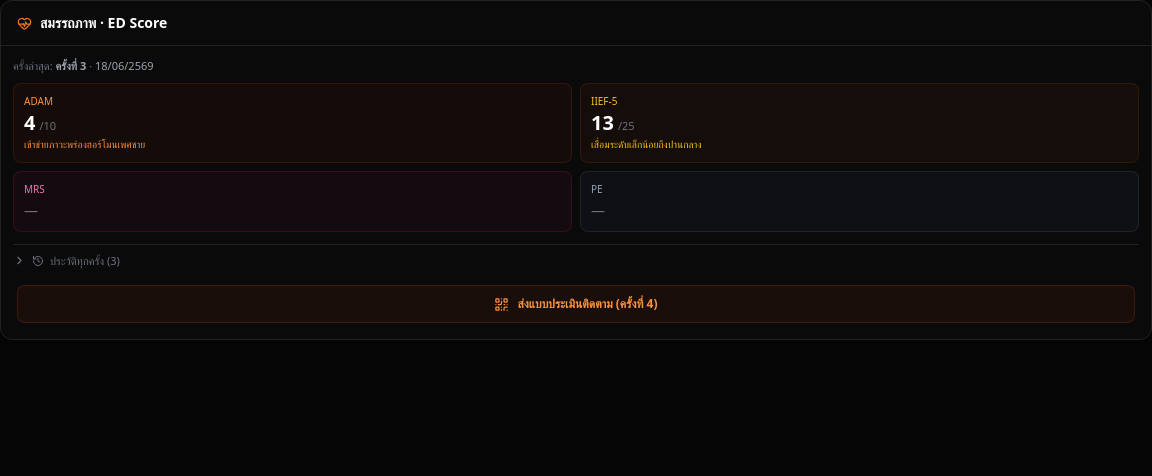
EDScoreBox round-select › R6 selecting then deleting that (past) round resets to default (handleDelete reset)
The width and height of the screenshot is (1152, 476).
Click the button with test id "ed-history-toggle" at (80, 260), box 13,244 -> 1139,269
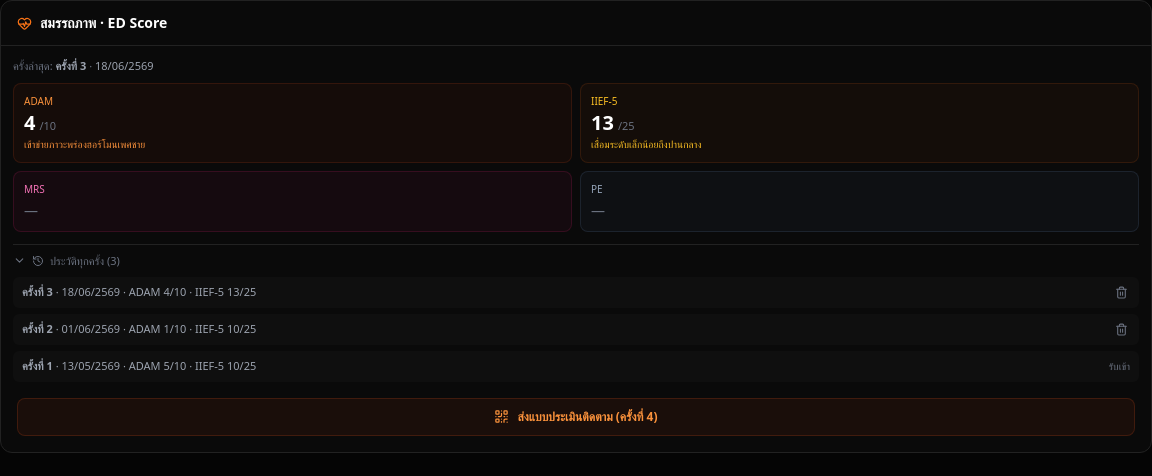
Click the button with test id "ed-history-A1" at (91, 329), box 13,314 -> 1139,345
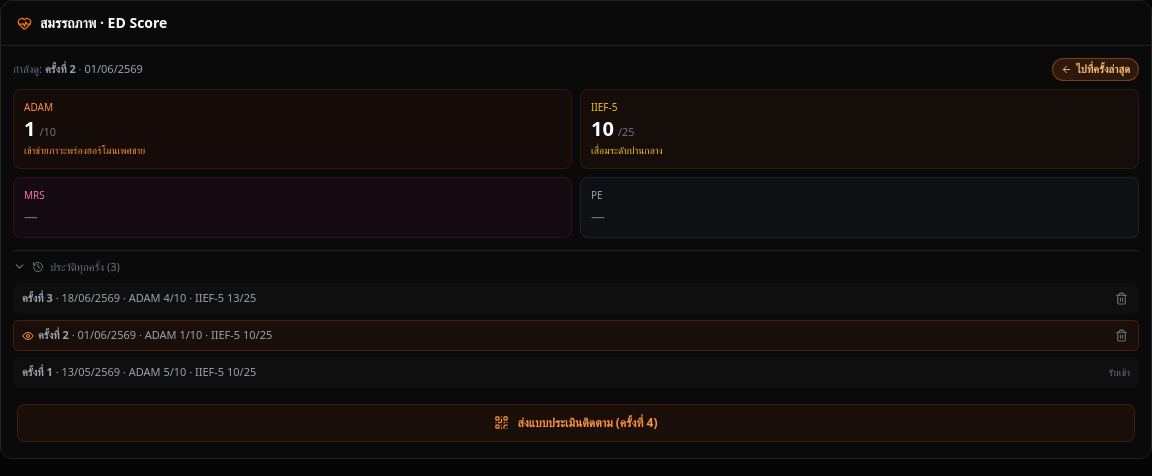
Check: the text "กำลังดู: ครั้งที่ 2 · 01/06/2569" is shown, box 13,61 -> 143,78
Click the button with test id "ed-delete-A1" at (1122, 336), box 1111,325 -> 1132,346
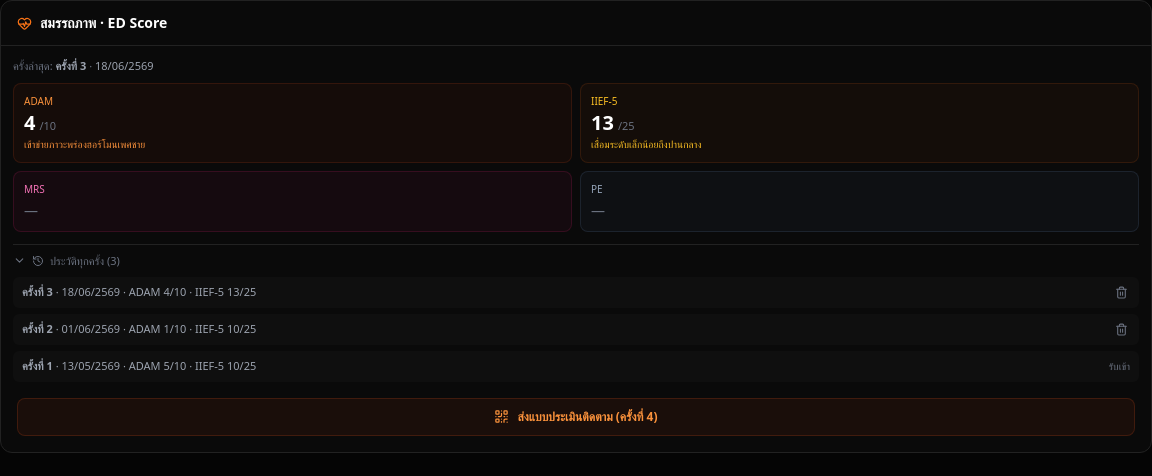
Check: the text "ครั้งล่าสุด: ครั้งที่ 3 · 18/06/2569" is shown, box 13,58 -> 154,74
Check: the button with test id "ed-back-to-latest" is gone
